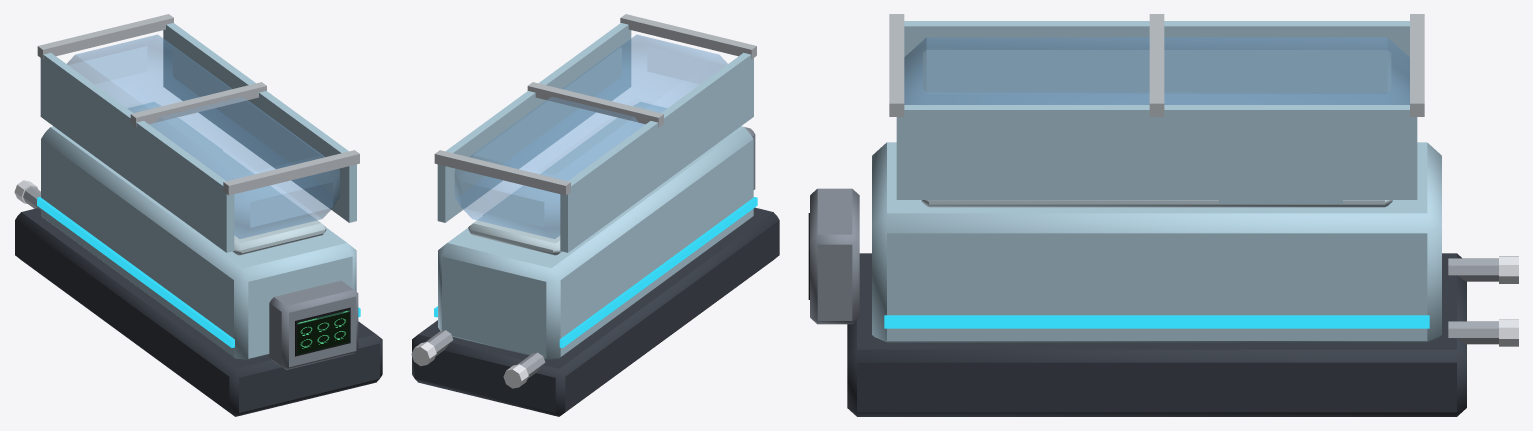
Rendered from cryo_cryo_stasis_pod.glb.
3 renders of one model, left to right at view 1: azimuth 30°, elevation 25°; view 2: azimuth 150°, elevation 25°; view 3: azimuth 270°, elevation 25°, orthographic. The views are drawn at different scales.
Visible parts, largest first — view 1: cryo_cryo_stasis_pod; view 2: cryo_cryo_stasis_pod; view 3: cryo_cryo_stasis_pod.
Part boxes in pixels (<box>): cryo_cryo_stasis_pod: <box>14,14,382,416</box>; cryo_cryo_stasis_pod: <box>411,14,779,416</box>; cryo_cryo_stasis_pod: <box>808,14,1518,416</box>.
Size of the model in its own units: 1 by 1.38 by 2.87.
11 materials, 1 textured.
